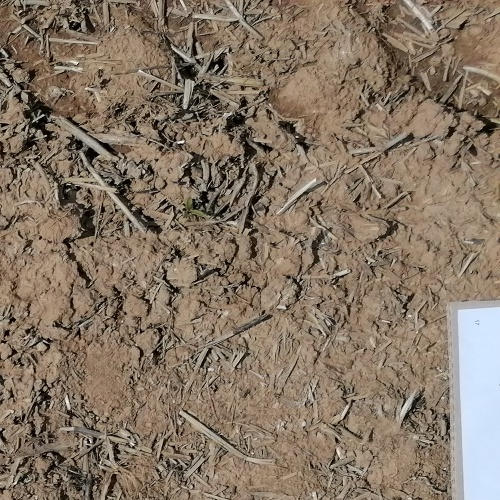beet: (183, 197, 206, 220)
